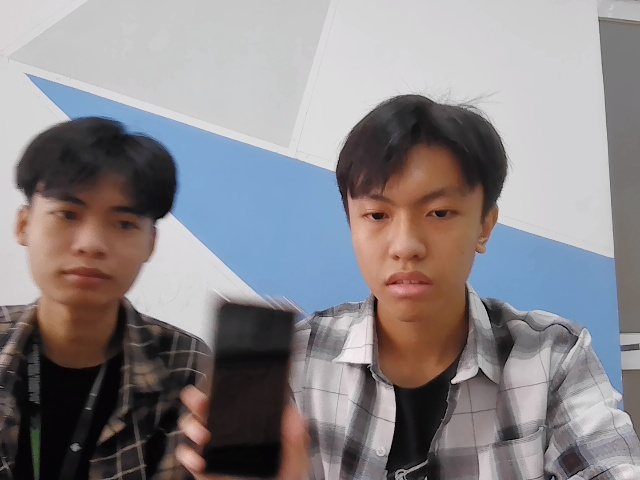human: (345, 102, 511, 322), (29, 118, 173, 313)
phone: (201, 287, 299, 480)
